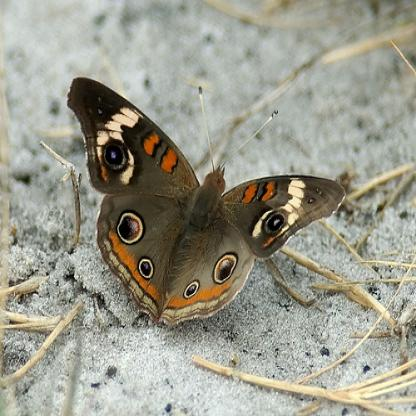Common Buckeye: (56, 48, 360, 349)
